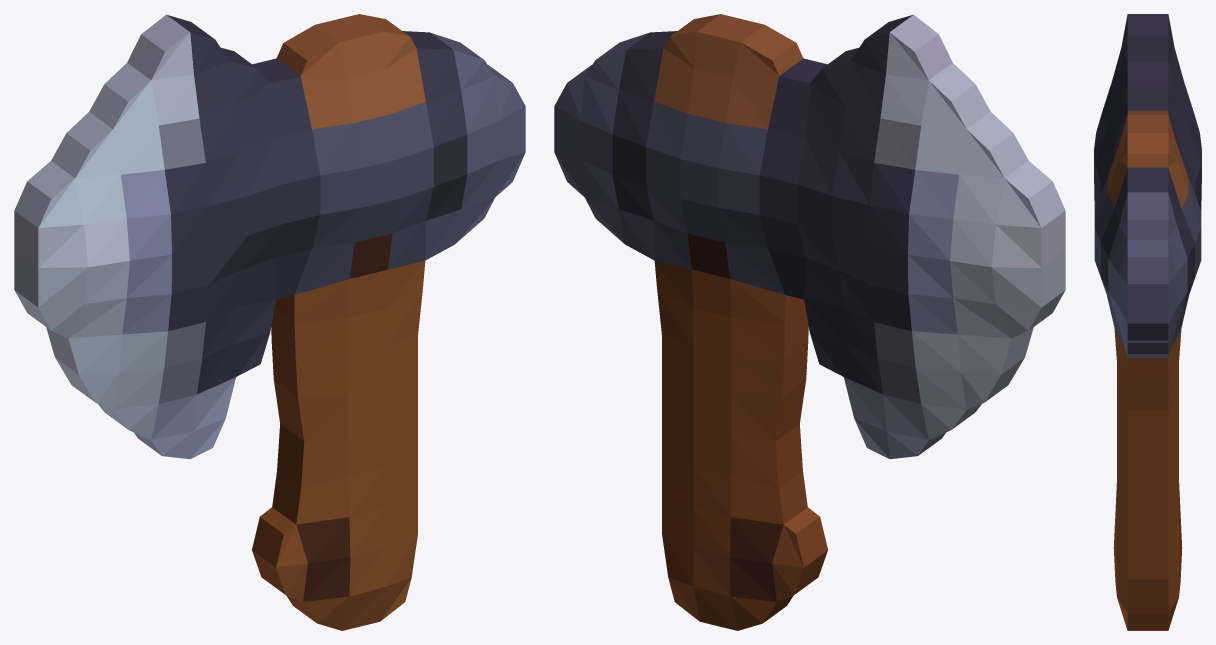
The model's file is swinging_axe_trap.glb.
3 renders of one model, left to right at view 1: azimuth 30°, elevation 25°; view 2: azimuth 150°, elevation 25°; view 3: azimuth 270°, elevation 25°, orthographic. The views are drawn at different scales.
Visible parts, largest first — view 1: swinging_axe_trap; view 2: swinging_axe_trap; view 3: swinging_axe_trap.
Boxes of the visible parts, x1,y1,x2,y2 form: swinging_axe_trap: [14, 14, 525, 630]; swinging_axe_trap: [554, 14, 1065, 630]; swinging_axe_trap: [1094, 14, 1201, 630].
Bounding box in the file's own units: 0.8019 × 1 × 0.1813.
Materials: 1 (1 with a texture image).
